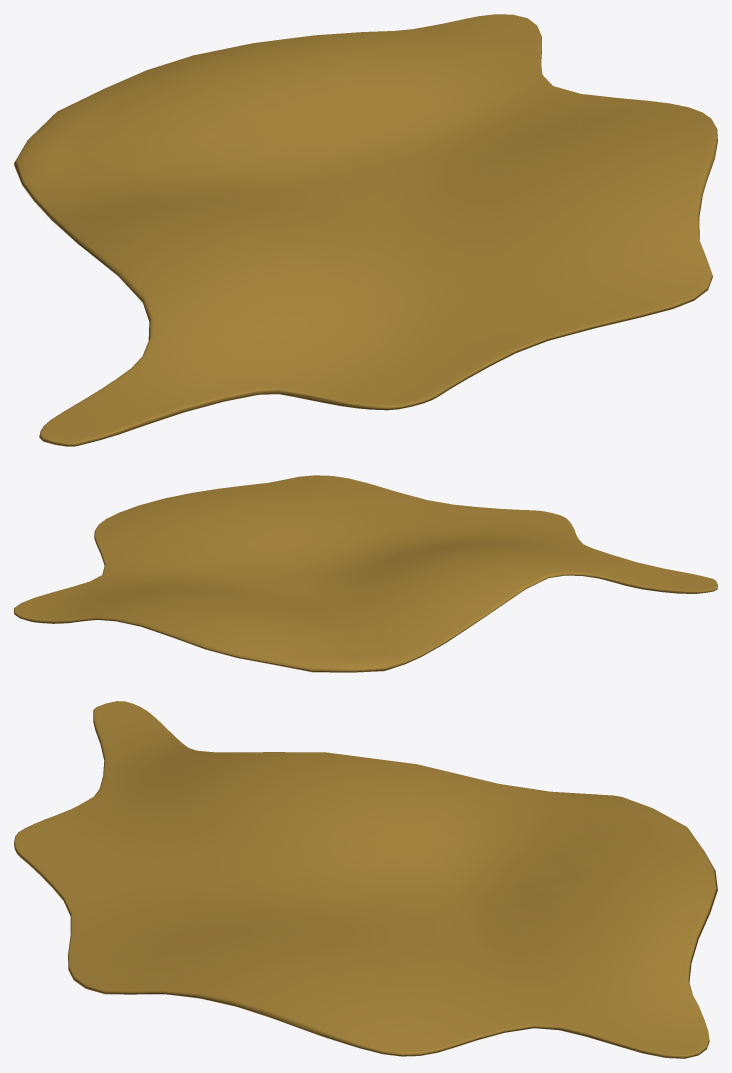
The model's file is sause_puddle.fbx.
3 renders of one model, top to bottom at view 1: azimuth 30°, elevation 25°; view 2: azimuth 150°, elevation 25°; view 3: azimuth 270°, elevation 25°, orthographic. The views are drawn at different scales.
Visible parts, largest first — view 1: mustard; view 2: mustard; view 3: mustard.
Part boxes in pixels (x1,y1,x2,y2): mustard: [14, 14, 717, 446]; mustard: [14, 475, 717, 672]; mustard: [14, 701, 717, 1058].
Size of the model in its own units: 12.11 by 0.6879 by 9.85.
